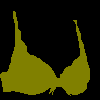reggiseno: (0, 11, 90, 96)
